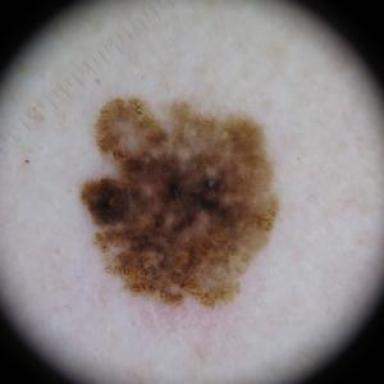Melanoma: (81, 99, 278, 305)
